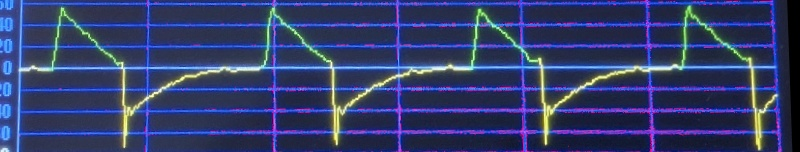normal_flow: (9, 0, 778, 152)
